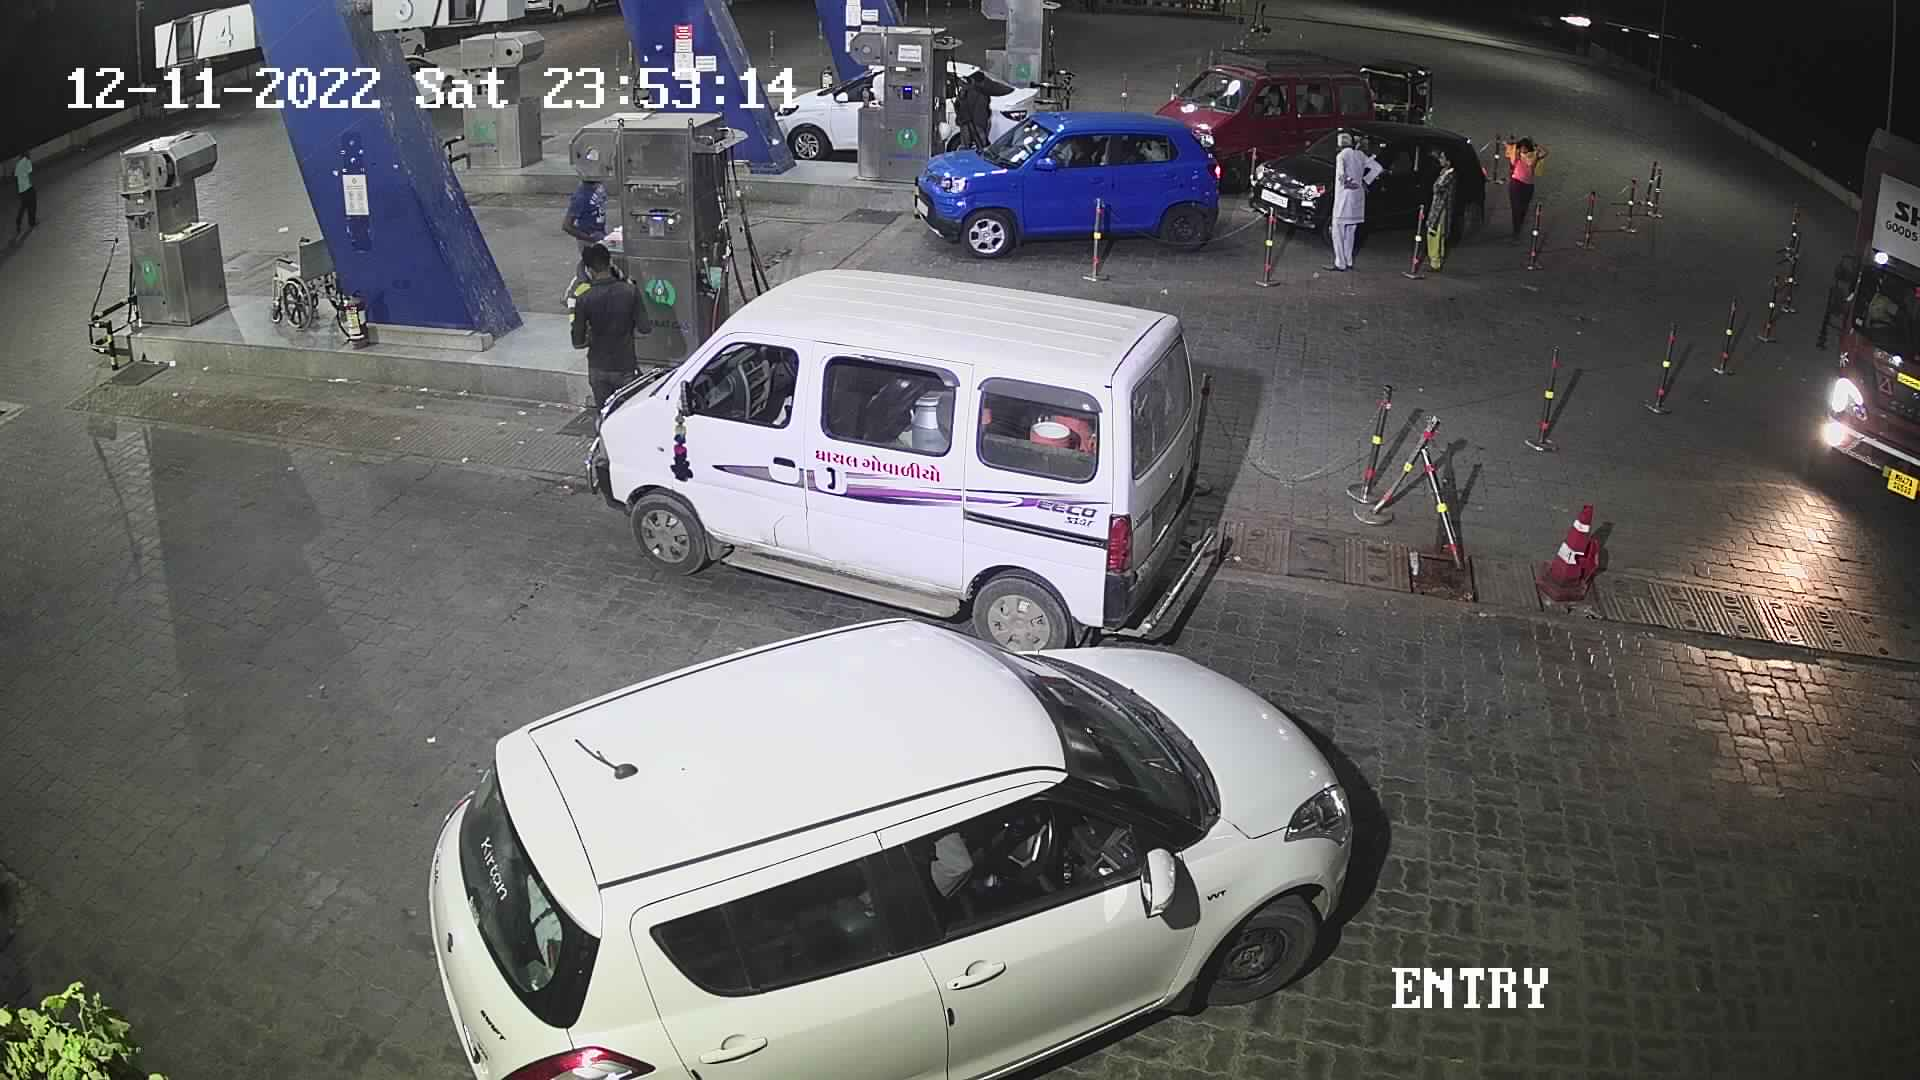Auto: (1349, 50, 1444, 135)
Car: (415, 611, 1379, 1077), (575, 262, 1224, 665), (906, 99, 1232, 265), (1147, 41, 1379, 200), (1247, 113, 1491, 247), (758, 62, 864, 165)
HMV: (1804, 113, 1917, 530)
